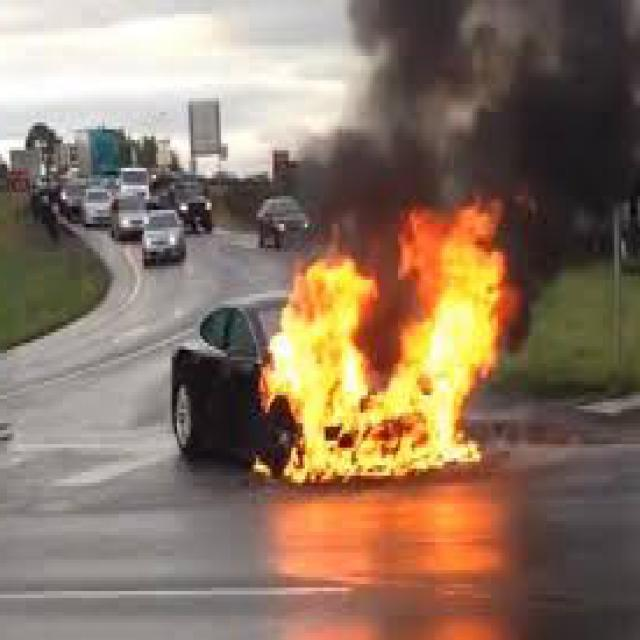Fire: (252, 197, 520, 495)
Smoke: (340, 2, 640, 196)
